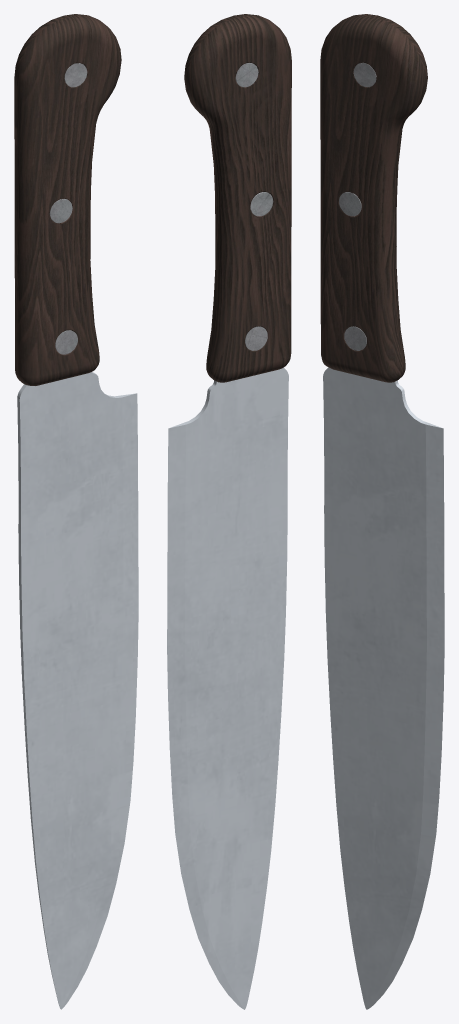
Rendered from knife.glb.
3 views of the same model, side by side, from view 1: azimuth 30°, elevation 25°; view 2: azimuth 210°, elevation 25°; view 3: azimuth 330°, elevation 25° (orthographic).
Parts seen in each view (by area): view 1: chef; view 2: chef; view 3: chef.
Part boxes in pixels (left/top/right/bottom): chef: left=14, top=14, right=138, bottom=1009; chef: left=167, top=14, right=291, bottom=1009; chef: left=320, top=14, right=444, bottom=1009.
Bounding box in the file's own units: 0.0423 × 0.3301 × 0.0106.
Materials: 3 (3 with a texture image).
